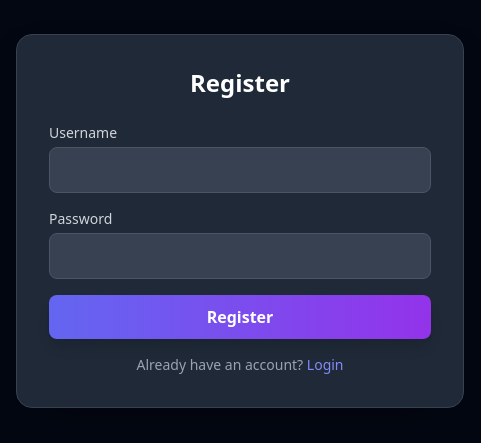
Scenario: RegisterPage › blocks submit when password is too short
Type "testuser" into the field with id "username" at [240, 170], box [49,147,431,193]
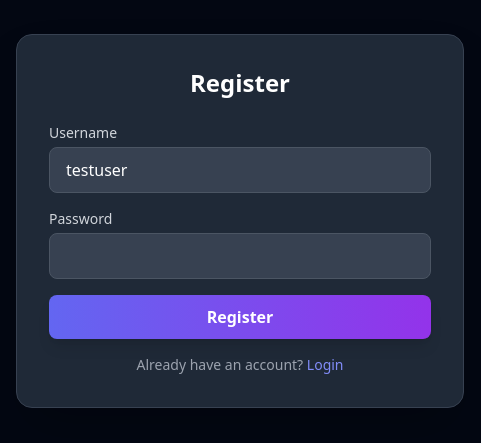
Type "pass1" into the password field labelled "Password" at [240, 256], box [49,233,431,279]
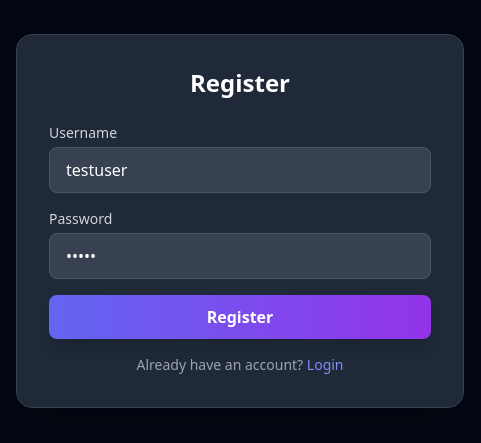
Submit the form, box [49,123,431,339]
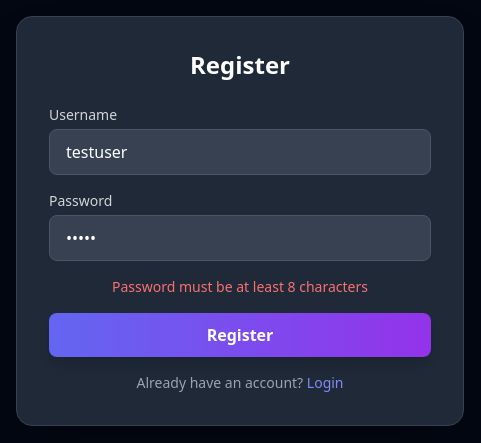
Now the text with class "error" reads "Password must be at least 8 characters", box [112,277,368,296]
